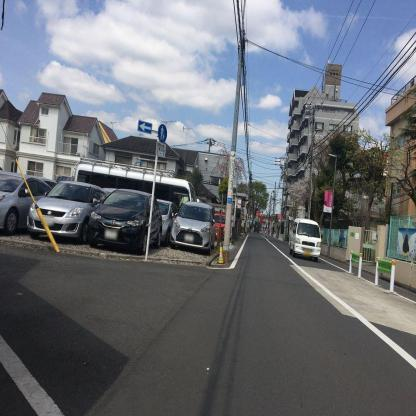Someiyoshino: (213, 143, 249, 188), (286, 175, 310, 206)
